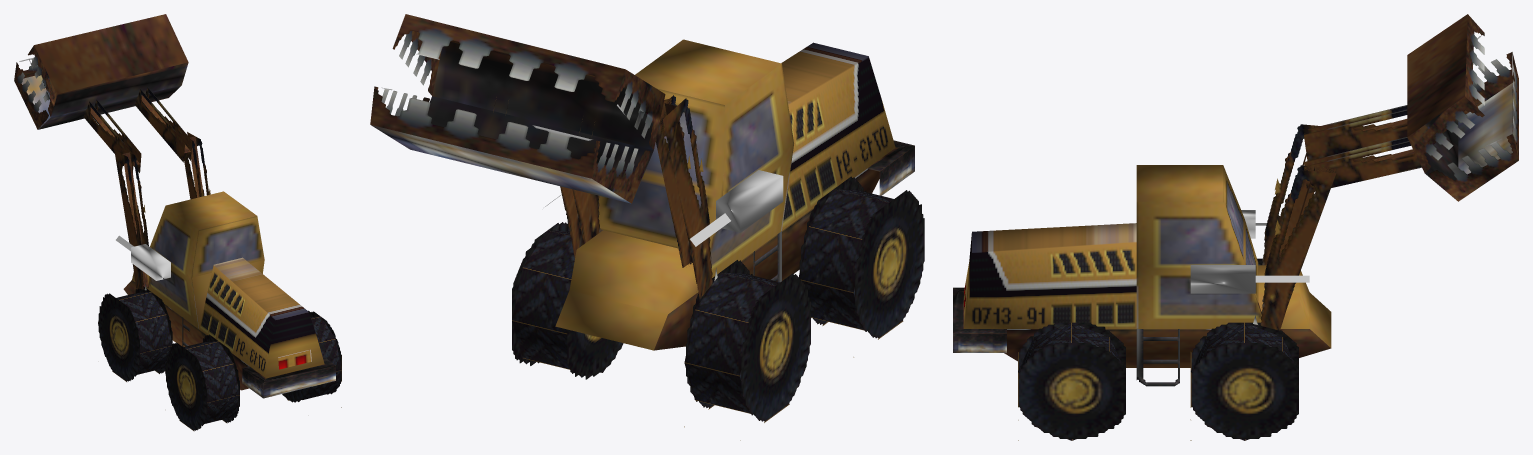
File: Mr Slam.obj
3 views of the same model, side by side, from view 1: azimuth 30°, elevation 25°; view 2: azimuth 150°, elevation 25°; view 3: azimuth 270°, elevation 25° (orthographic). The views are drawn at different scales.
Visible parts, largest first — view 1: Mr_Slam; view 2: Mr_Slam; view 3: Mr_Slam.
Boxes of the visible parts, <box> form: Mr_Slam: <box>14,14,341,431</box>; Mr_Slam: <box>370,14,924,440</box>; Mr_Slam: <box>953,14,1518,440</box>.
Size of the model in its own units: 1.59 by 3.02 by 4.5.
